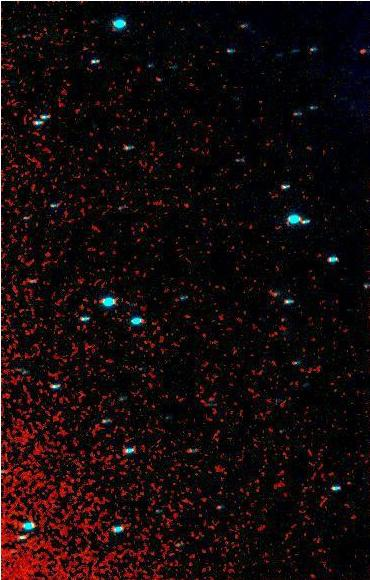star: (348, 35, 370, 65)
